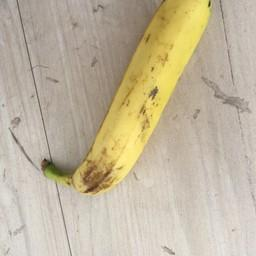Banana Ripe: (56, 0, 223, 228)
